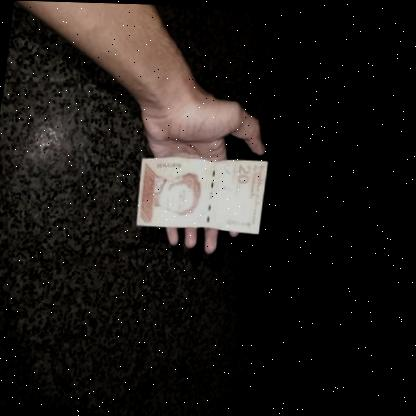twenty-front-vef: (136, 149, 270, 233)
